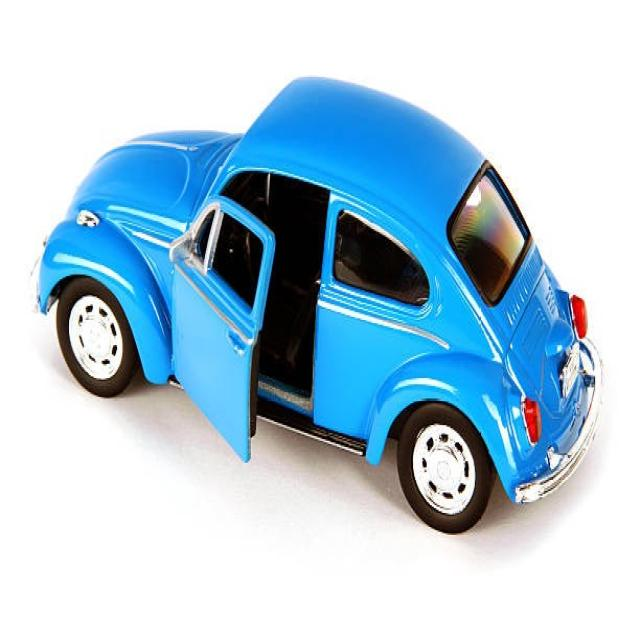cars: (41, 79, 600, 527)
